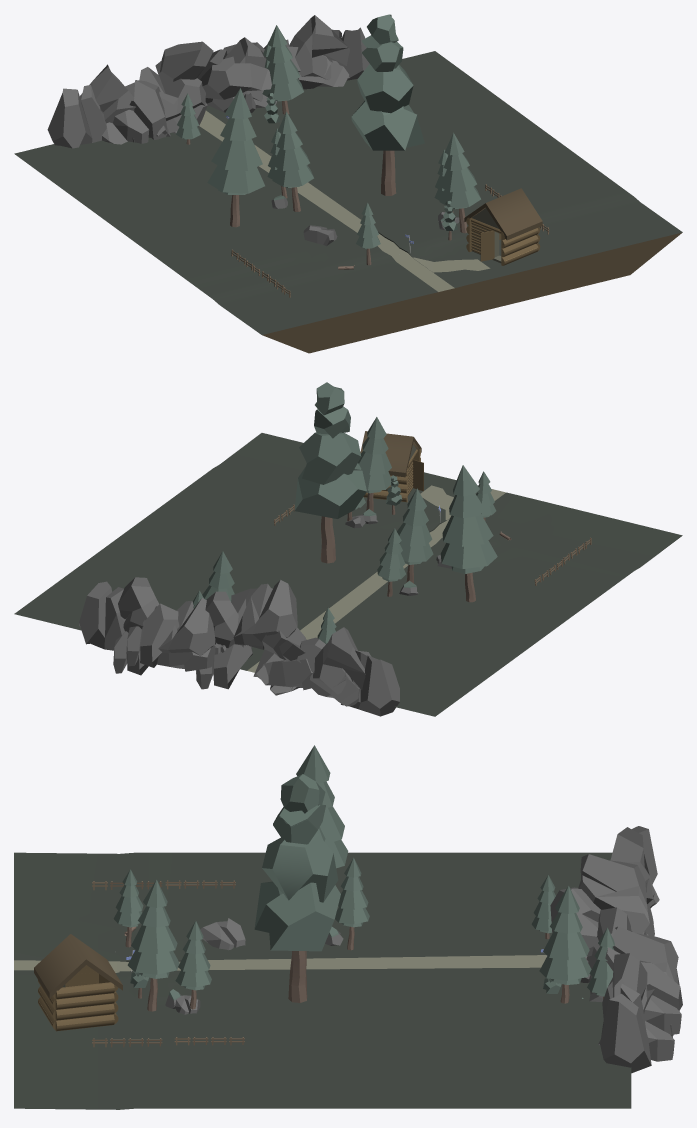
The model's file is silvaforestA2.fbx.
3 renders of one model, top to bottom at view 1: azimuth 30°, elevation 25°; view 2: azimuth 150°, elevation 25°; view 3: azimuth 270°, elevation 25°, orthographic. The views are drawn at different scales.
Parts seen in each view (by area): view 1: pPlane1, pasted__pasted__pasted__pPlatonic34, pasted__pasted__pasted__pPlatonic79, pasted__pasted__pCone3 (×4), pasted__pasted__pCone2 (×4), pasted__pasted__pPlatonic11, pasted__pasted__pasted__pPlatonic31, pasted__pasted__pPlatonic12, pCube4, pasted__pasted__pasted__pPlatonic33, pasted__pasted__pasted__pPlatonic29, pasted__pasted__pPlatonic75 (+5 smaller); view 2: pPlane1, pasted__pasted__pasted__pPlatonic79, pasted__pasted__pasted__pPlatonic34, pasted__pasted__pasted__pPlatonic33, pasted__pasted__pCone3 (×3), pasted__pasted__pPlatonic11, pasted__pasted__pPlatonic12, pasted__pasted__pasted__pPlatonic30, pasted__pasted__pasted__pPlatonic29, pasted__pasted__pasted__pPlatonic32, pasted__pasted__pCone2, pCube4 (+5 smaller); view 3: pPlane1, pasted__pasted__pasted__pPlatonic79, pasted__pasted__pPlatonic11, pasted__pasted__pasted__pPlatonic33, pasted__pasted__pPlatonic12, pasted__pasted__pCone3 (×3), pCube4, pasted__pasted__pCone2 (×2), pasted__pasted__pasted__pPlatonic34, pasted__pasted__pPlatonic14, pasted__pasted__pasted__pPlatonic31, pasted__pasted__pPlatonic94 (+9 smaller).
Boxes of the visible parts, <box> form: pPlane1: <box>14,51,682,353</box>; pasted__pasted__pasted__pPlatonic34: <box>47,60,207,148</box>; pasted__pasted__pasted__pPlatonic79: <box>223,15,369,89</box>; pasted__pasted__pCone3 (×4): <box>211,59,476,192</box>; pasted__pasted__pCone2 (×4): <box>207,78,480,207</box>; pasted__pasted__pPlatonic11: <box>351,100,424,150</box>; pasted__pasted__pasted__pPlatonic31: <box>200,56,271,99</box>; pasted__pasted__pPlatonic12: <box>357,64,413,113</box>; pCube4: <box>464,188,542,240</box>; pasted__pasted__pasted__pPlatonic33: <box>159,41,226,81</box>; pasted__pasted__pasted__pPlatonic29: <box>225,37,266,101</box>; pasted__pasted__pPlatonic75: <box>361,35,403,71</box>; pPlane1: <box>14,433,682,716</box>; pasted__pasted__pasted__pPlatonic79: <box>79,577,215,675</box>; pasted__pasted__pasted__pPlatonic34: <box>253,627,399,716</box>; pasted__pasted__pasted__pPlatonic33: <box>233,580,297,646</box>; pasted__pasted__pCone3 (×3): <box>358,451,493,546</box>; pasted__pasted__pPlatonic11: <box>294,467,366,518</box>; pasted__pasted__pPlatonic12: <box>299,432,361,484</box>; pasted__pasted__pasted__pPlatonic30: <box>196,644,252,689</box>; pasted__pasted__pasted__pPlatonic29: <box>205,591,245,647</box>; pasted__pasted__pasted__pPlatonic32: <box>262,658,313,690</box>; pasted__pasted__pCone2: <box>440,540,497,568</box>; pCube4: <box>360,431,421,477</box>; pPlane1: <box>14,852,631,1109</box>; pasted__pasted__pasted__pPlatonic79: <box>598,926,682,1073</box>; pasted__pasted__pPlatonic11: <box>254,881,340,951</box>; pasted__pasted__pasted__pPlatonic33: <box>578,854,649,934</box>; pasted__pasted__pPlatonic12: <box>262,833,338,902</box>; pasted__pasted__pCone3 (×3): <box>131,806,589,960</box>; pCube4: <box>34,934,122,998</box>; pasted__pasted__pCone2 (×2): <box>127,950,591,980</box>; pasted__pasted__pasted__pPlatonic34: <box>610,826,659,935</box>; pasted__pasted__pPlatonic14: <box>280,774,325,813</box>; pasted__pasted__pasted__pPlatonic31: <box>550,887,600,956</box>; pasted__pasted__pPlatonic94: <box>200,918,245,950</box>.
Bounding box in the file's own units: 3210 × 1514 × 3545.
